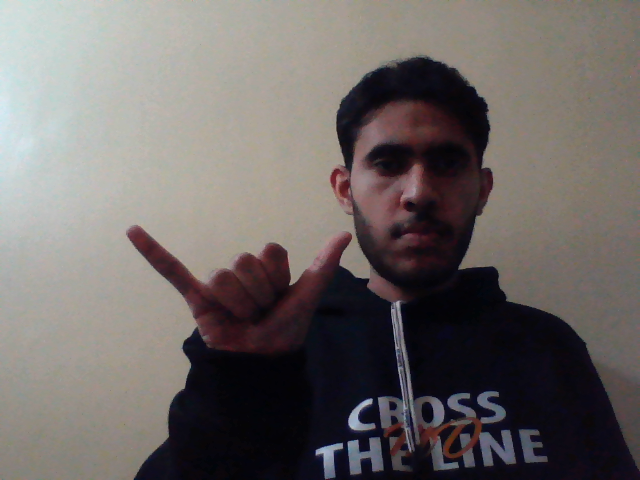Y: (121, 222, 355, 374)
